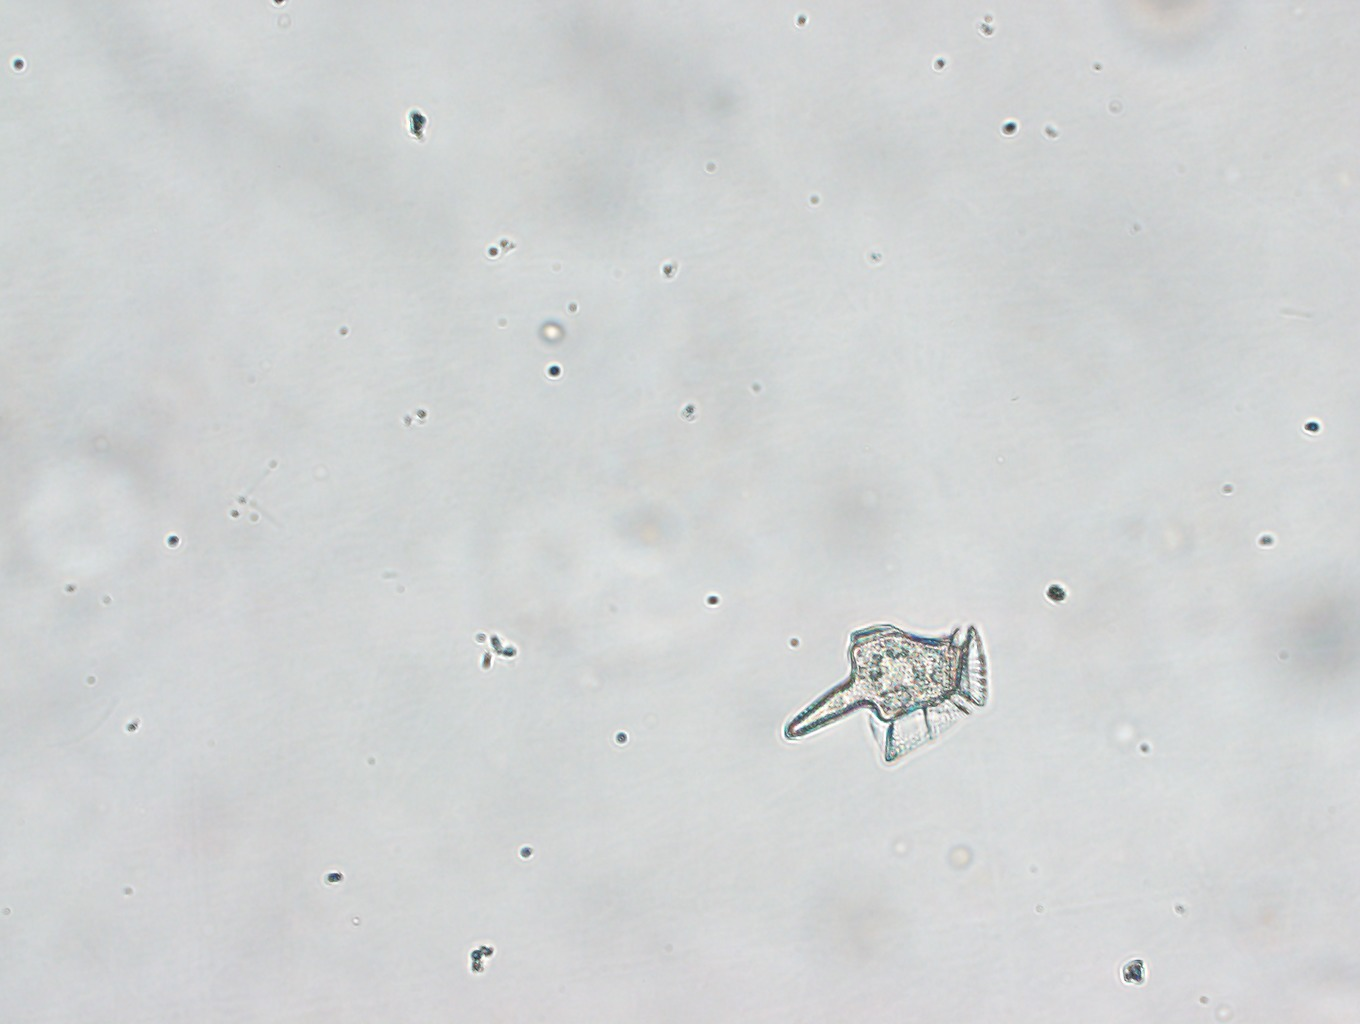dinophysis caudata: (781, 613, 1000, 785)
